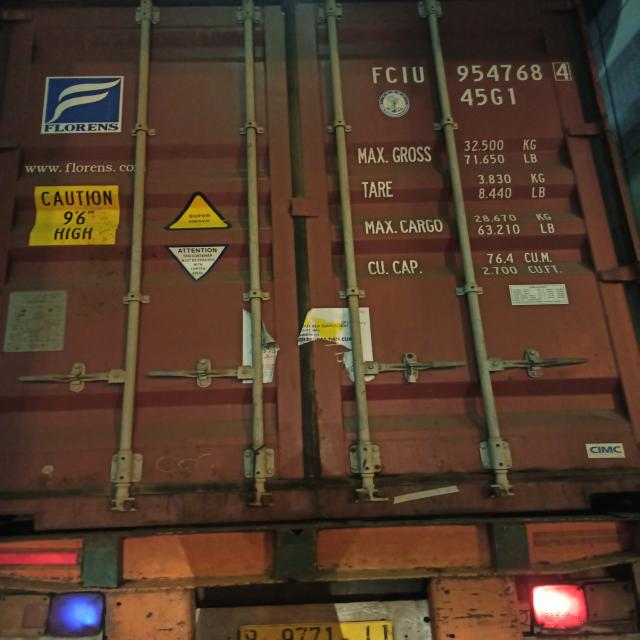seal: (407, 362, 418, 384)
